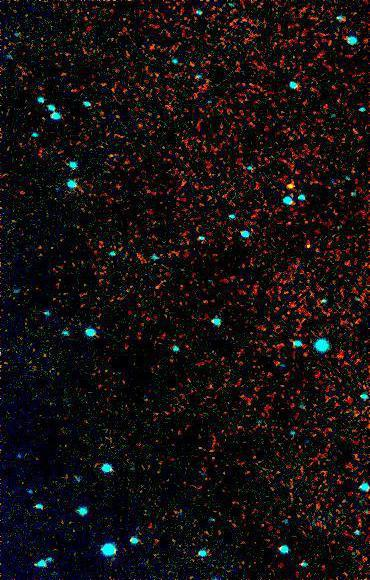star: (276, 171, 306, 201)
